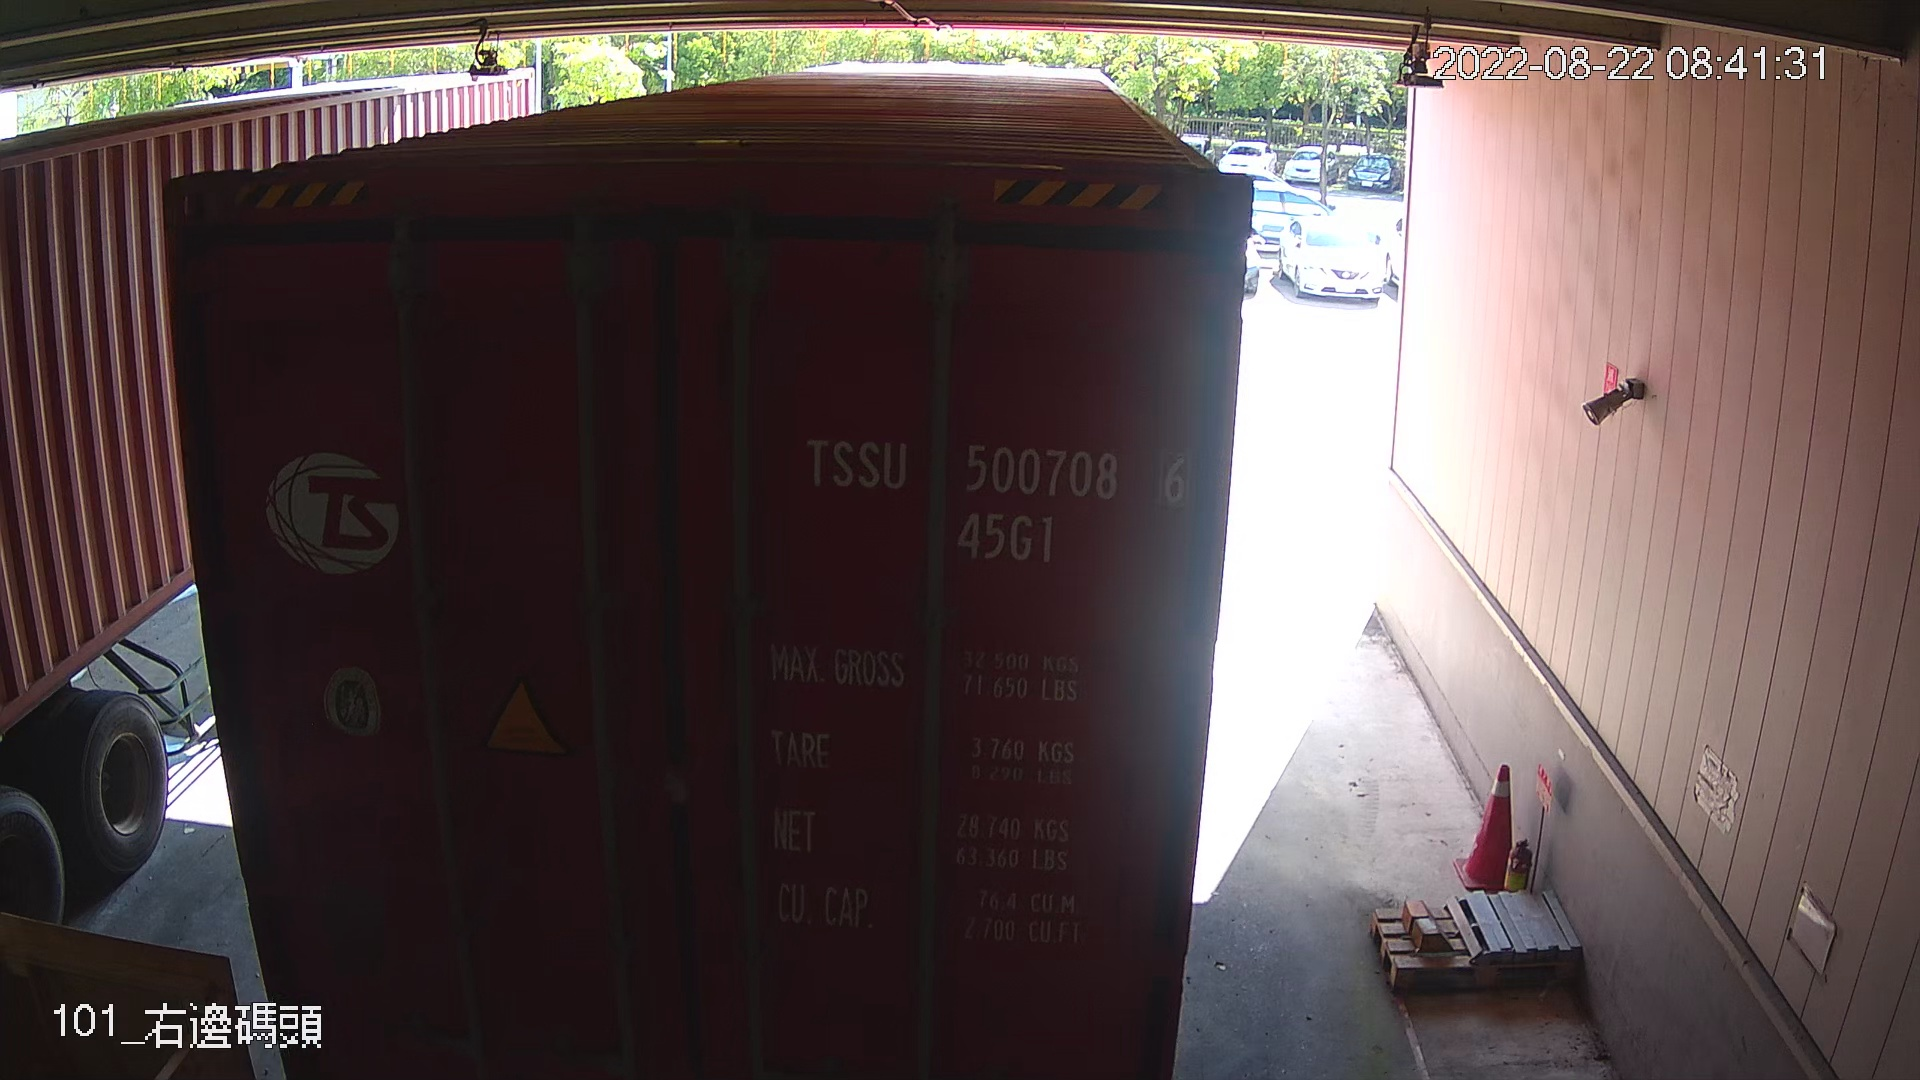container: (785, 415, 1211, 574)
